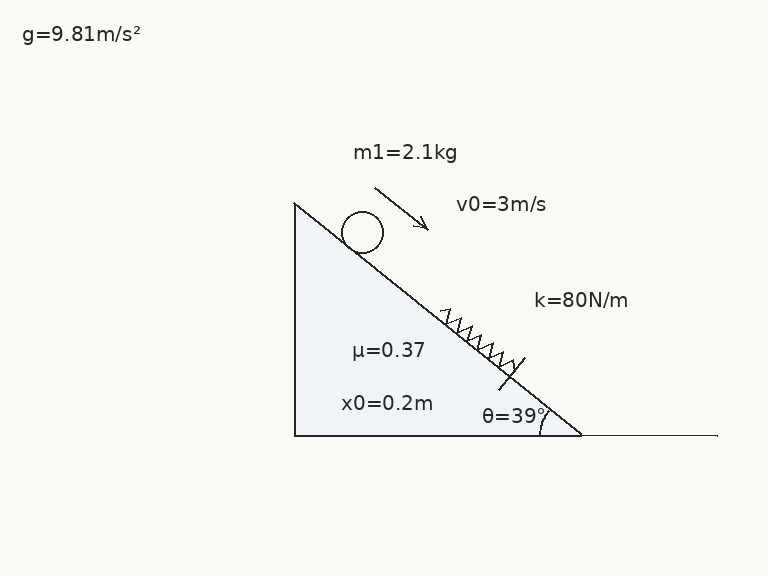ball: (339, 209, 385, 255)
ramp: (293, 202, 582, 437)
spring: (438, 307, 516, 372)
